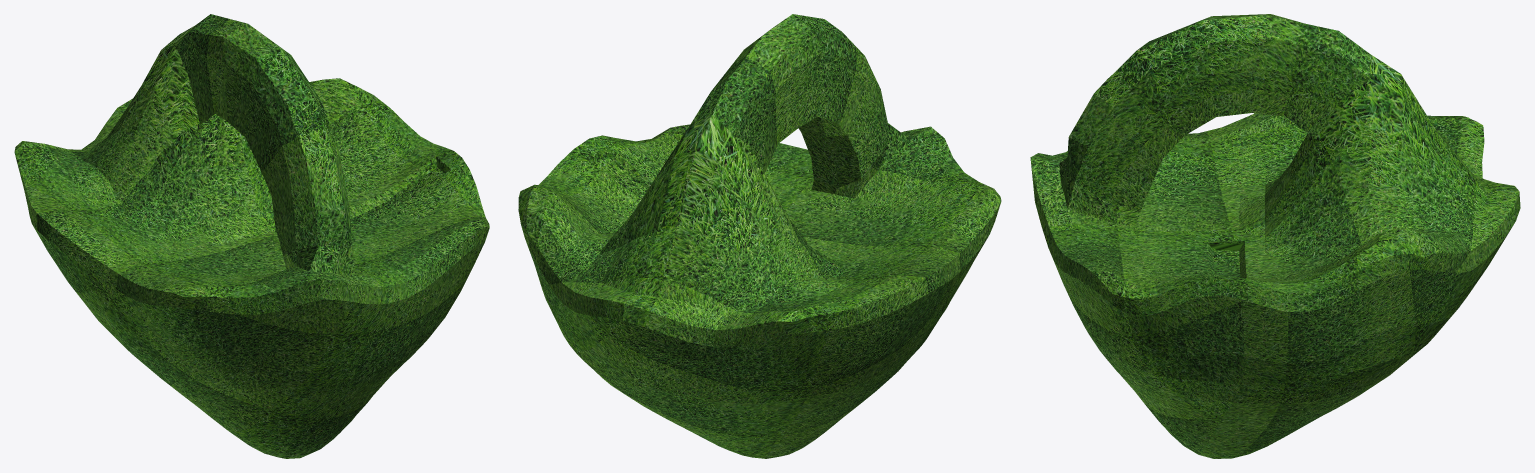
The model's file is haha island float with texture UwU.fbx.
3 renders of one model, left to right at view 1: azimuth 30°, elevation 25°; view 2: azimuth 150°, elevation 25°; view 3: azimuth 270°, elevation 25°, orthographic. The views are drawn at different scales.
Visible parts, largest first — view 1: Plane; view 2: Plane; view 3: Plane.
Boxes of the visible parts, x1=… form: Plane: x1=14, y1=14, x2=489, y2=458; Plane: x1=518, y1=14, x2=1001, y2=458; Plane: x1=1030, y1=14, x2=1520, y2=458.
Size of the model in its own units: 2013 by 2107 by 2178.
